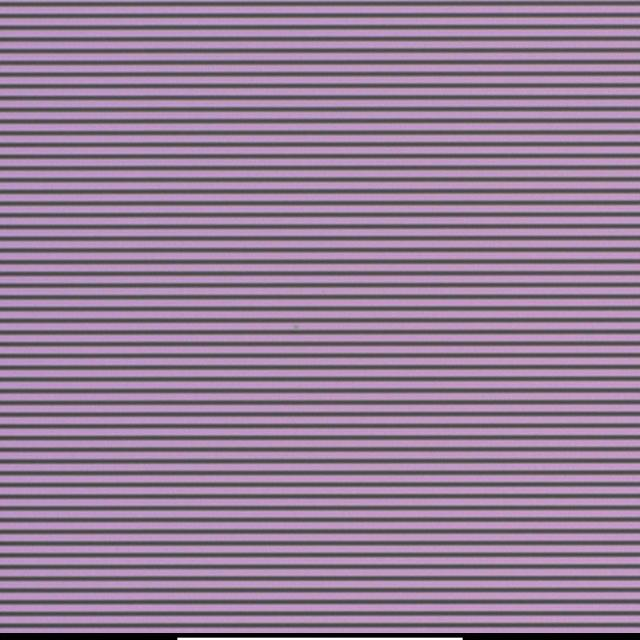03_intrusion: (288, 323, 302, 336)
